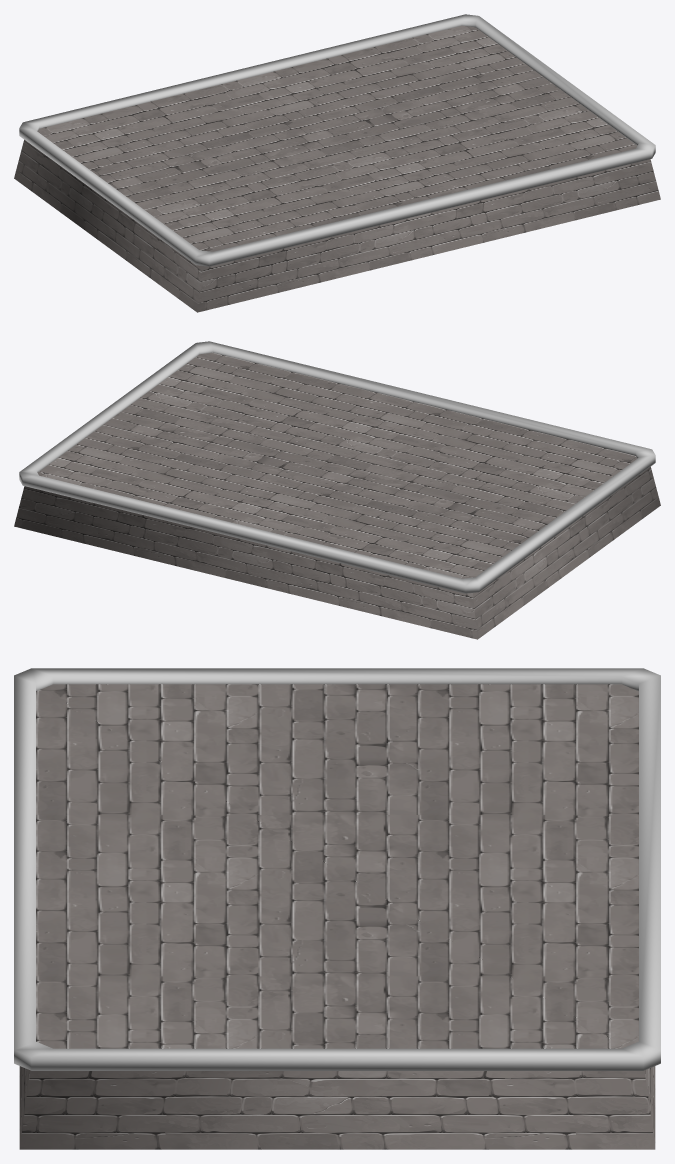
Rendered from Podest_2.fbx.
3 views of the same model, one above another, from view 1: azimuth 30°, elevation 25°; view 2: azimuth 150°, elevation 25°; view 3: azimuth 270°, elevation 25° (orthographic). The views are drawn at different scales.
Visible parts, largest first — view 1: Podest_2; view 2: Podest_2; view 3: Podest_2.
Boxes of the visible parts, box(x1,y1,x2,y2) form: Podest_2: box(14, 14, 660, 312); Podest_2: box(14, 341, 660, 639); Podest_2: box(14, 668, 660, 1149).
Bounding box in the file's own units: 7.32 × 0.7909 × 5.11.
